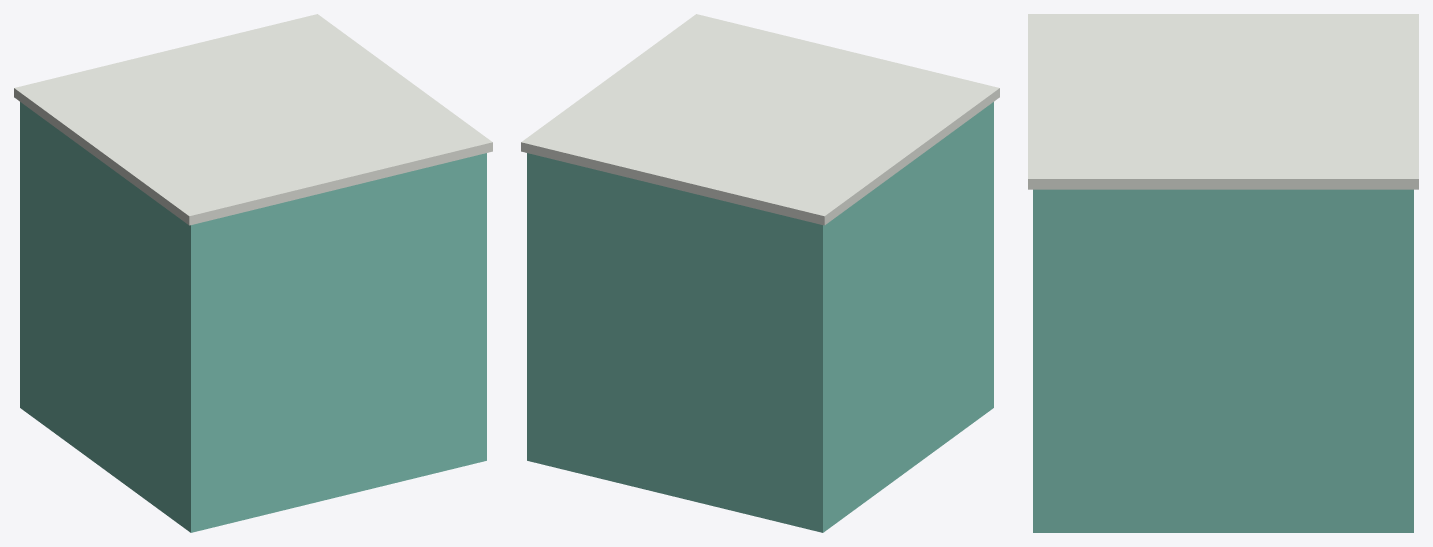
File: building_sage.glb
3 views of the same model, side by side, from view 1: azimuth 30°, elevation 25°; view 2: azimuth 150°, elevation 25°; view 3: azimuth 270°, elevation 25° (orthographic). The views are drawn at different scales.
Visible parts, largest first — view 1: building_sage; view 2: building_sage; view 3: building_sage.
Part boxes in pixels (box(x1,y1,x2,y2)): building_sage: box(14, 14, 492, 532); building_sage: box(521, 14, 999, 532); building_sage: box(1028, 14, 1418, 532).
Size of the model in its own units: 1.02 by 1.03 by 1.02.
